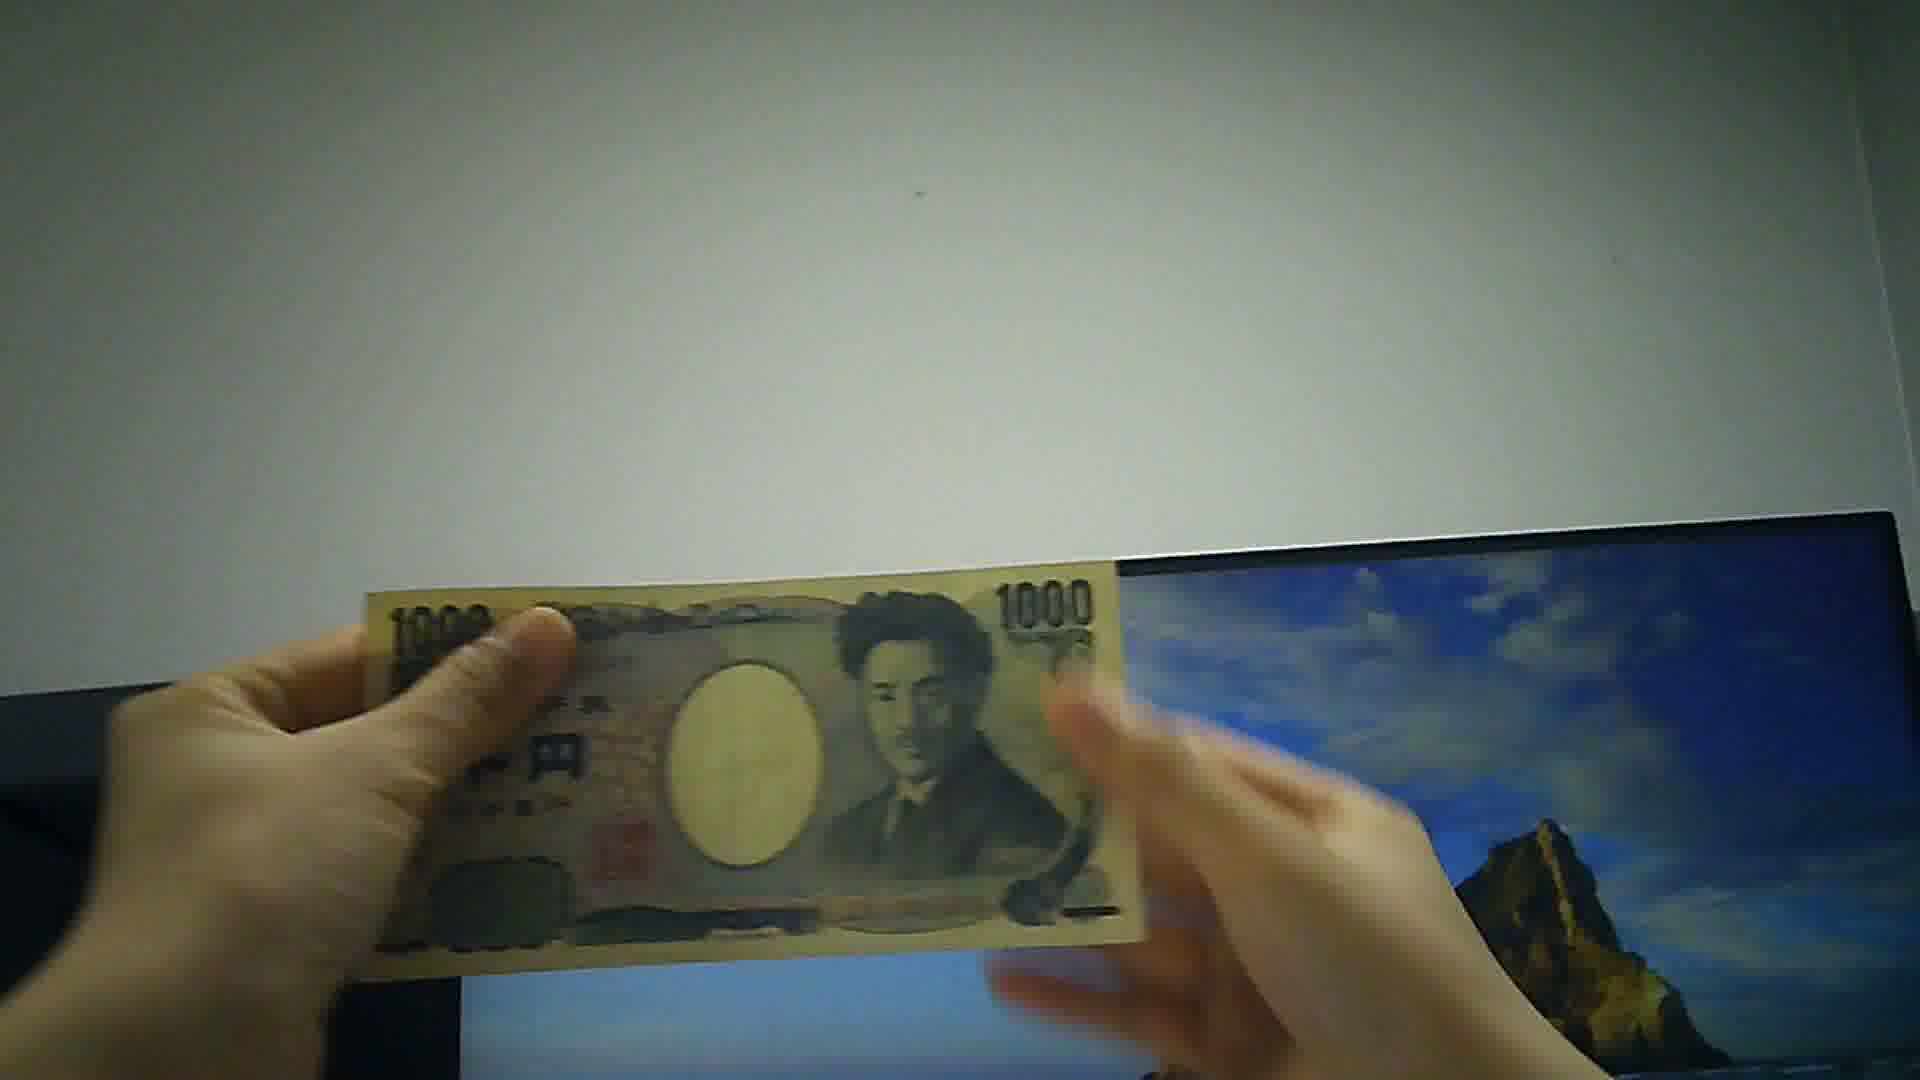1,000 Yen: (357, 566, 1167, 949)
